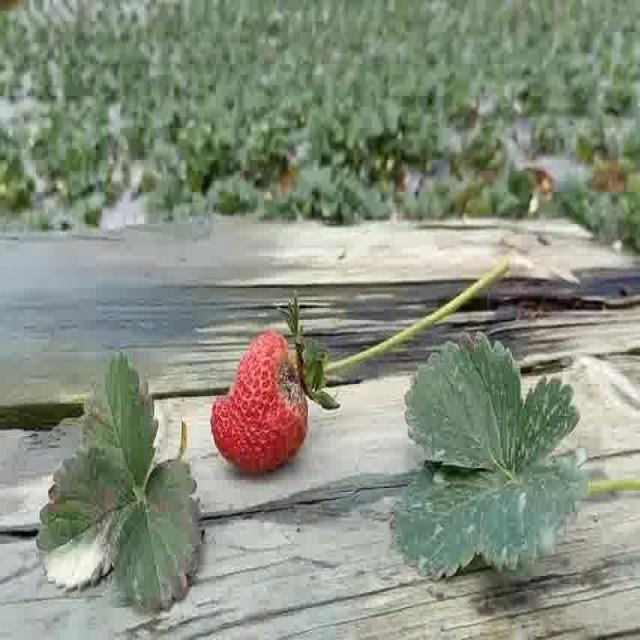Mancha negra Antracnosis: (209, 328, 312, 475)
